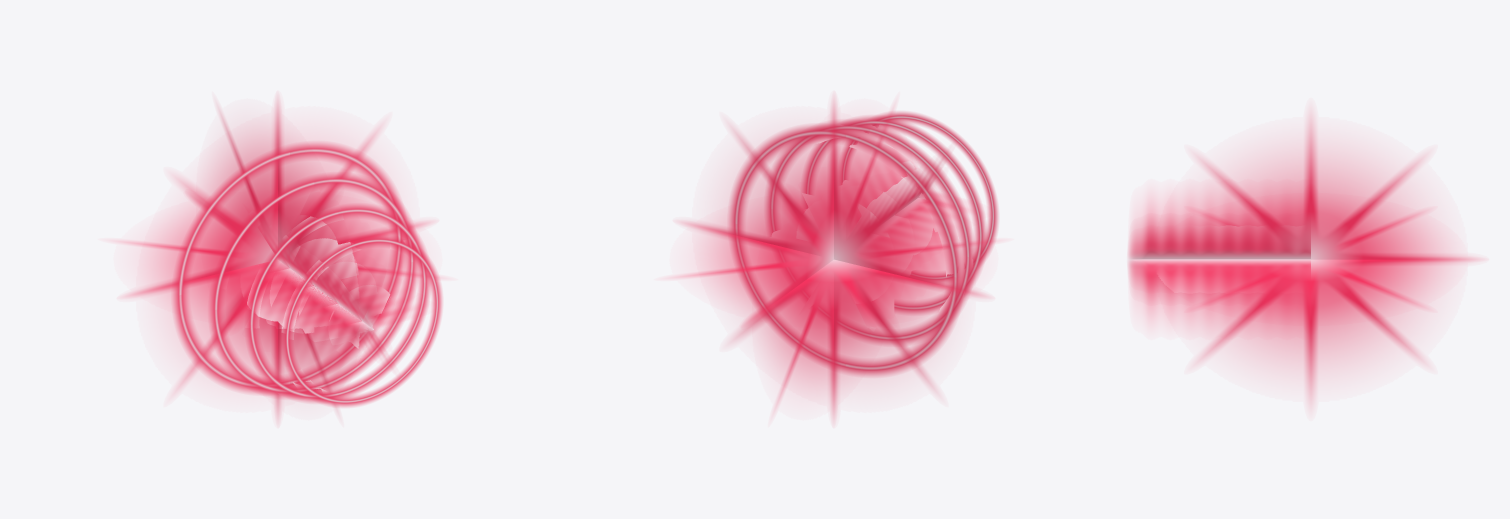
The model's file is fx_bbeam.glb.
The picture shows the model from 3 angles, left to right: view 1: azimuth 30°, elevation 25°; view 2: azimuth 150°, elevation 25°; view 3: azimuth 270°, elevation 25°; orthographic projection. The views are drawn at different scales.
Visible parts, largest first — view 1: fx_orb, fx_ring, fx_beam; view 2: fx_orb, fx_ring, fx_beam; view 3: fx_orb, fx_beam.
Boxes of the visible parts, x1,y1,x2,y2 form: fx_orb: [117, 98, 431, 420]; fx_ring: [173, 142, 442, 406]; fx_beam: [228, 211, 417, 377]; fx_orb: [673, 98, 994, 420]; fx_ring: [729, 112, 998, 375]; fx_beam: [855, 146, 970, 266]; fx_orb: [1190, 115, 1480, 403]; fx_beam: [1127, 198, 1310, 320].
Size of the model in its own units: 2 by 2 by 2.
3 materials, 3 textured.
